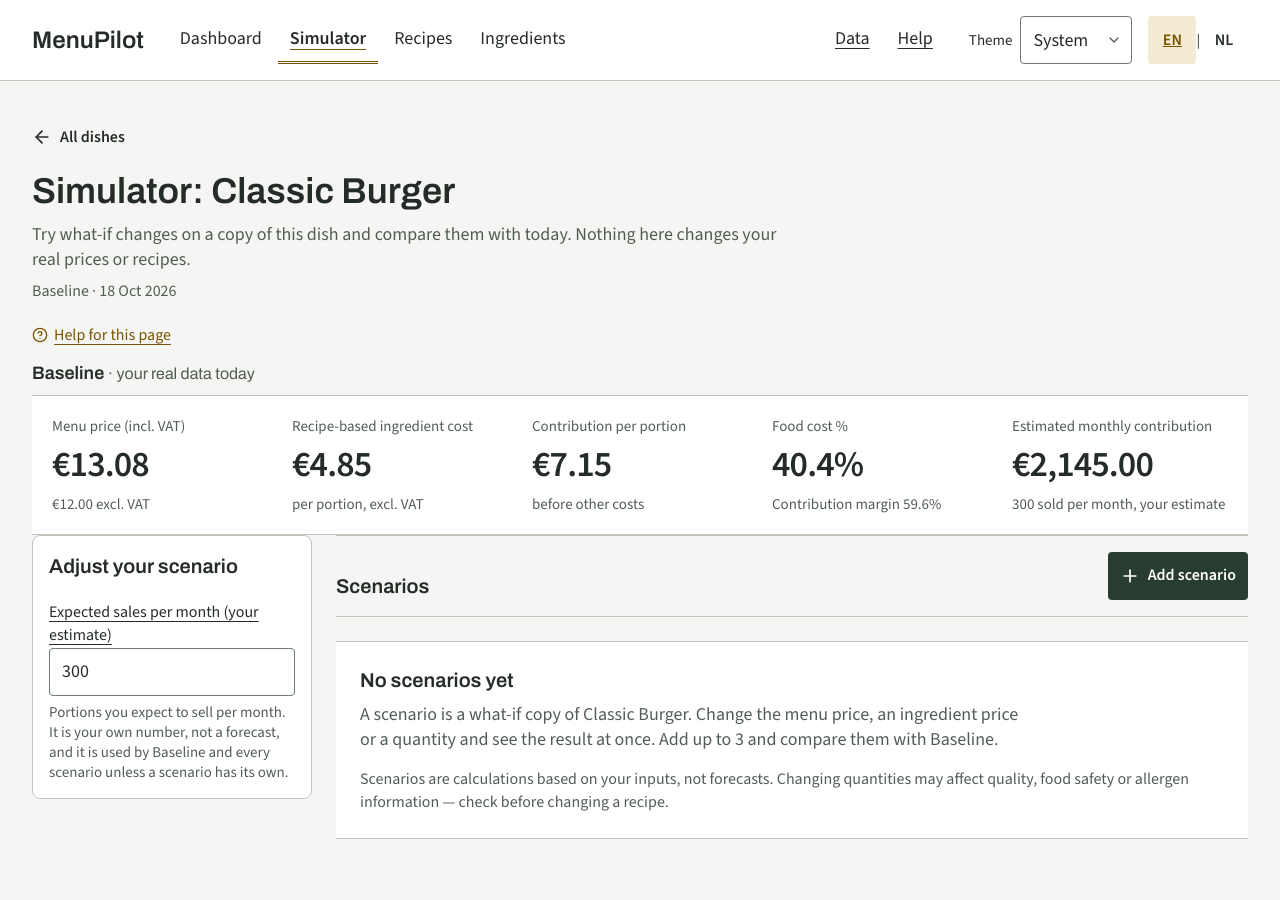
Test: Baseline › a change to the shared sales estimate updates every figure, and a wrong one is refused
This screenshot has width=1280, height=900.
Check: the heading "Simulator: Classic Burger" is shown, box [32,171,455,211]
Replace the text in the field named "Expected sales per month (your estimate)" with "400": (172, 672) [49,648,295,696]
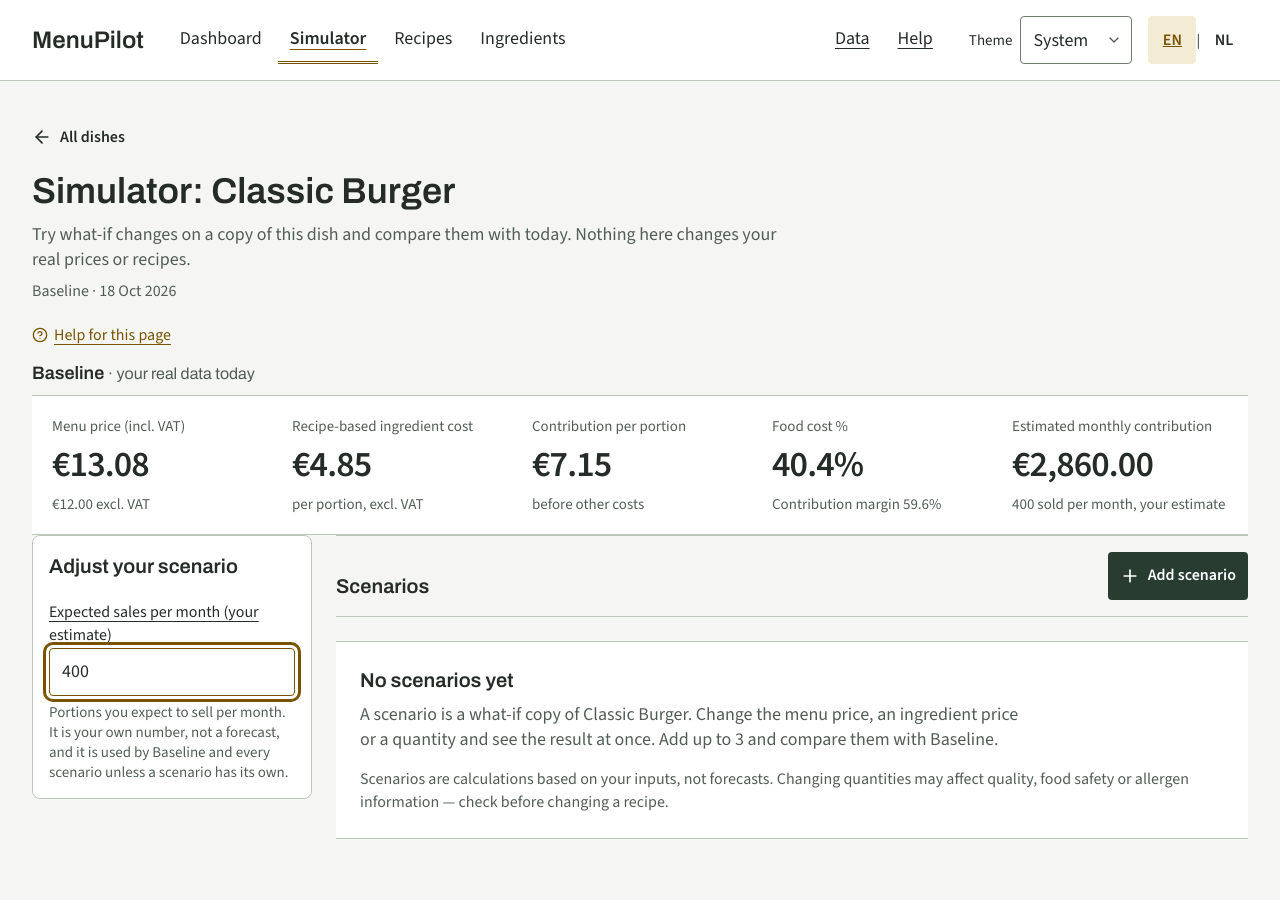
Check: the text "€2,860.00" is shown, box [1012,440,1153,488]
In the field named "Expected sales per month (your estimate)": (172, 672) [49,648,295,696], type "x"
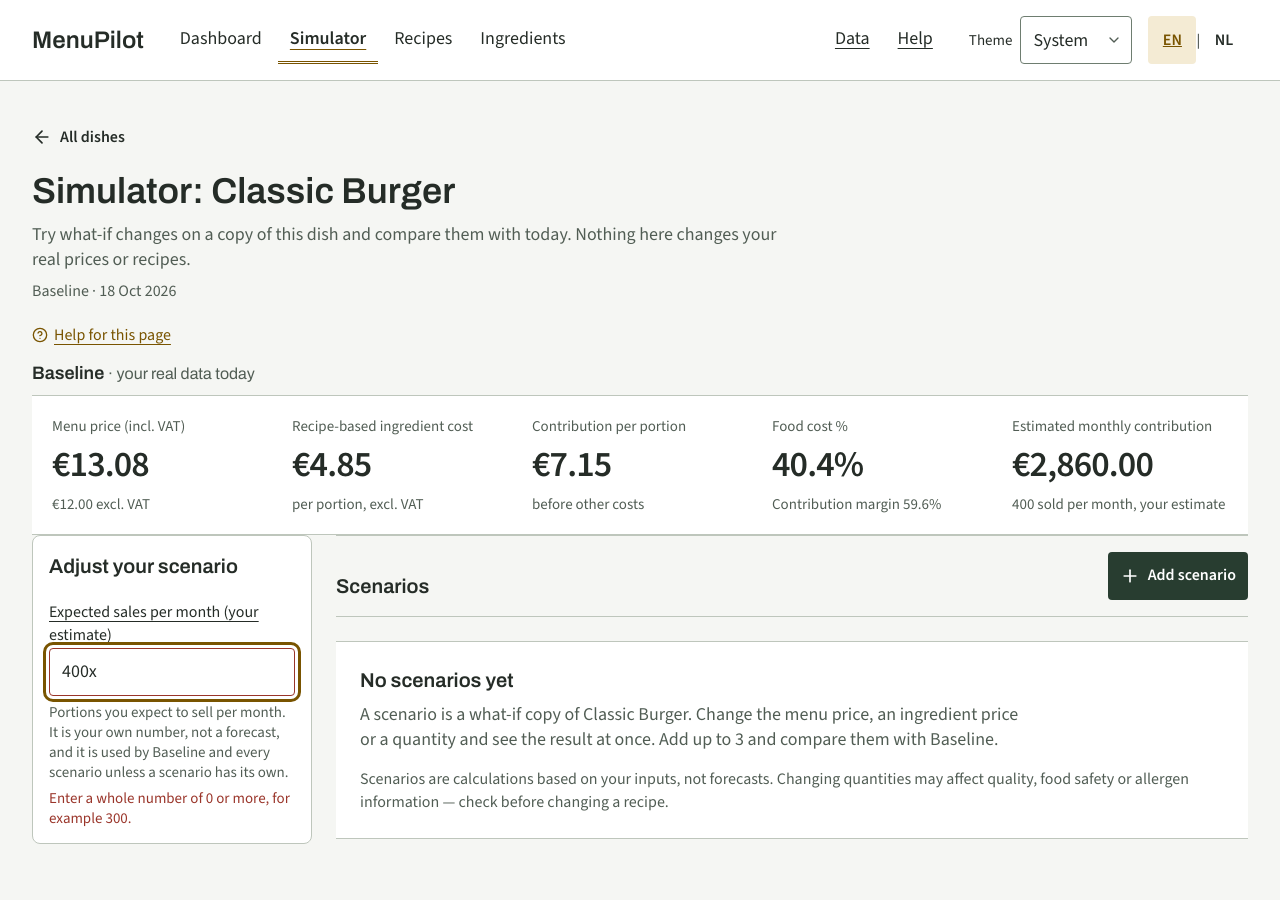
Check: the text "€2,860.00" is shown, box [1012,440,1153,488]
Check: the text "Enter a whole number of 0 or more, for example 300." is shown, box [49,788,295,828]
Clear the field named "Expected sales per month (your estimate)": (172, 672) [49,648,295,696]
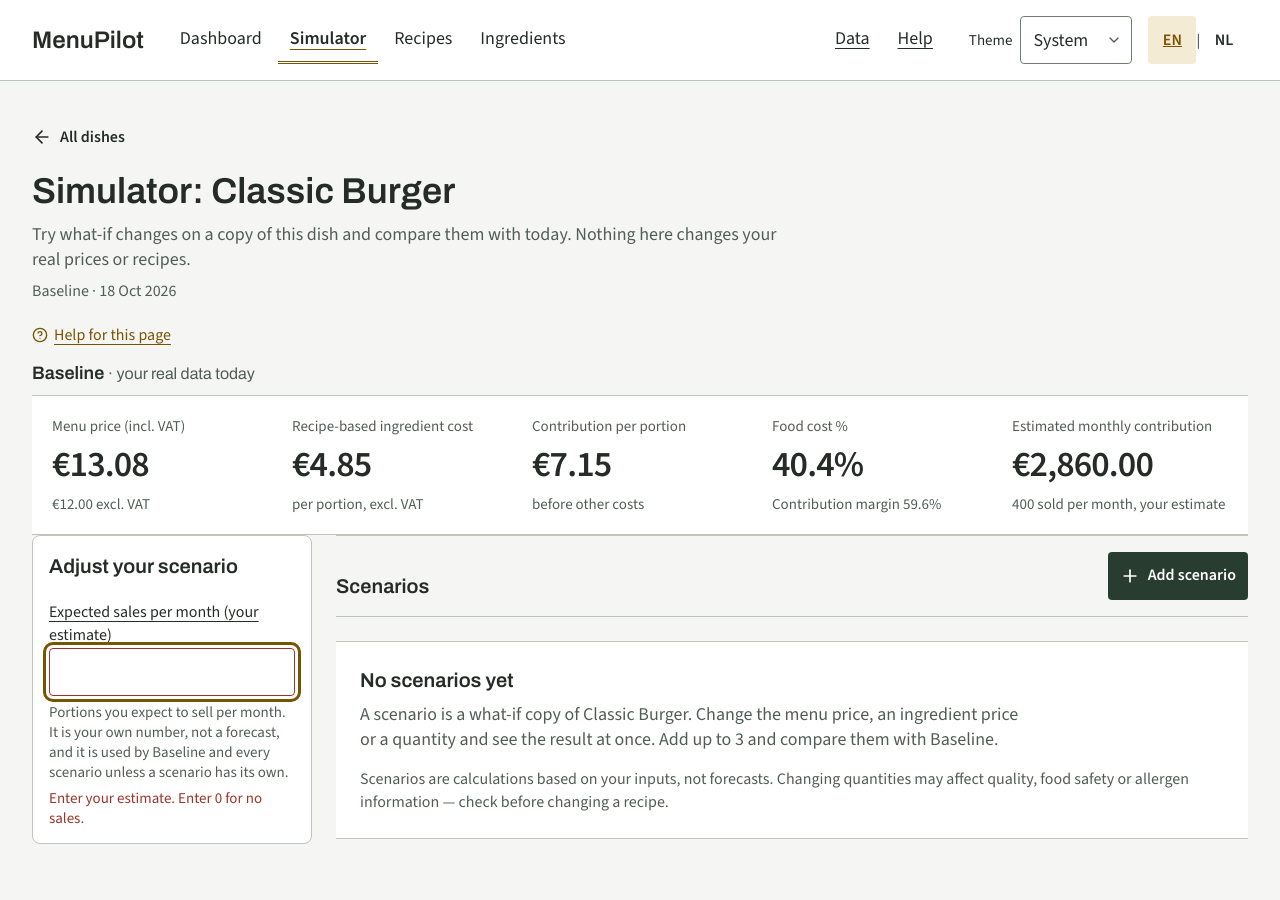
Check: the text "Enter your estimate. Enter 0 for no sales." is shown, box [49,788,295,828]
